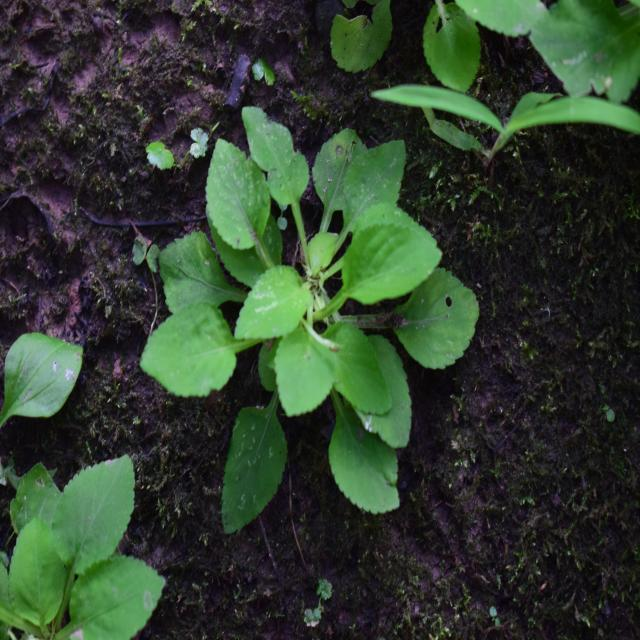Viola: (169, 148, 474, 526)
